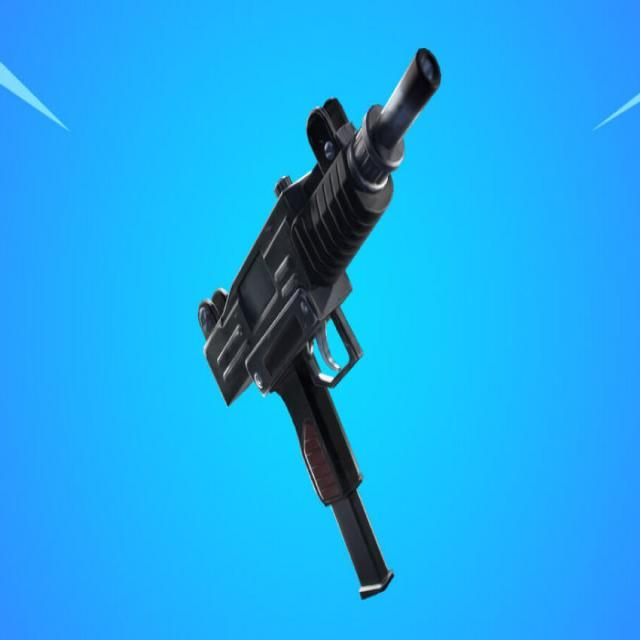smg: (200, 35, 455, 620)
